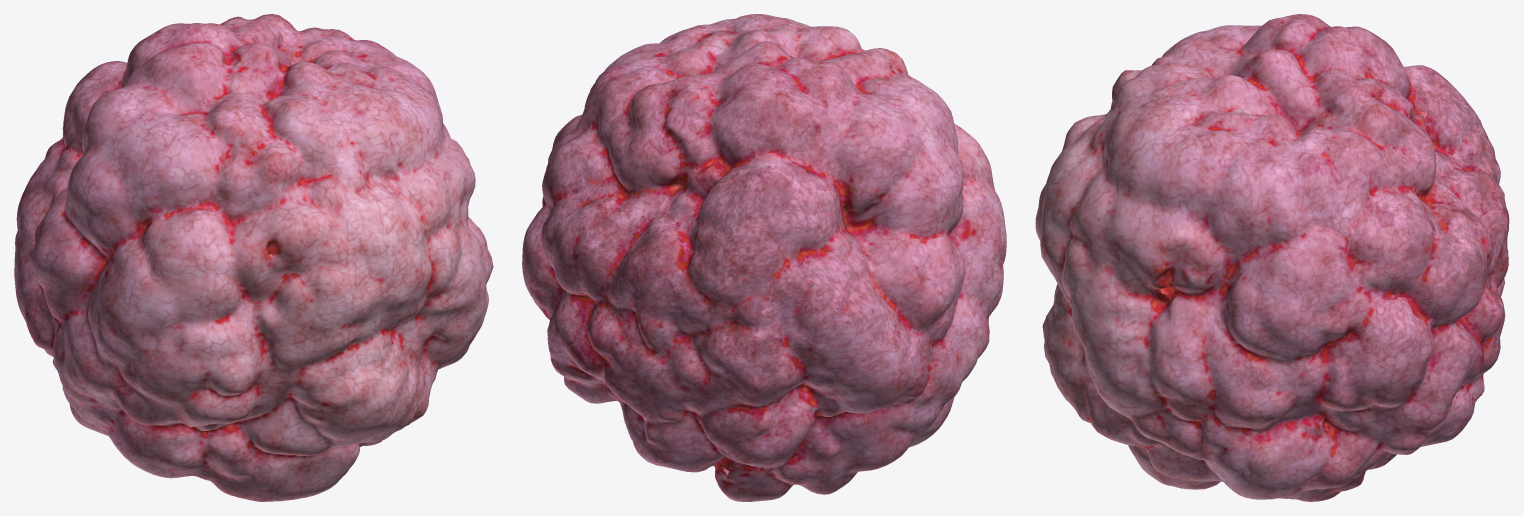
Rendered from cancer_cell.glb.
3 views of the same model, side by side, from view 1: azimuth 30°, elevation 25°; view 2: azimuth 150°, elevation 25°; view 3: azimuth 270°, elevation 25° (orthographic). The views are drawn at different scales.
Visible parts, largest first — view 1: Object_2; view 2: Object_2; view 3: Object_2.
Boxes of the visible parts, x1,y1,x2,y2 form: Object_2: (14,14,493,501); Object_2: (522,14,1006,501); Object_2: (1035,14,1509,501).
Bounding box in the file's own units: 0.3371 × 0.3326 × 0.3279.
Materials: 1 (1 with a texture image).
